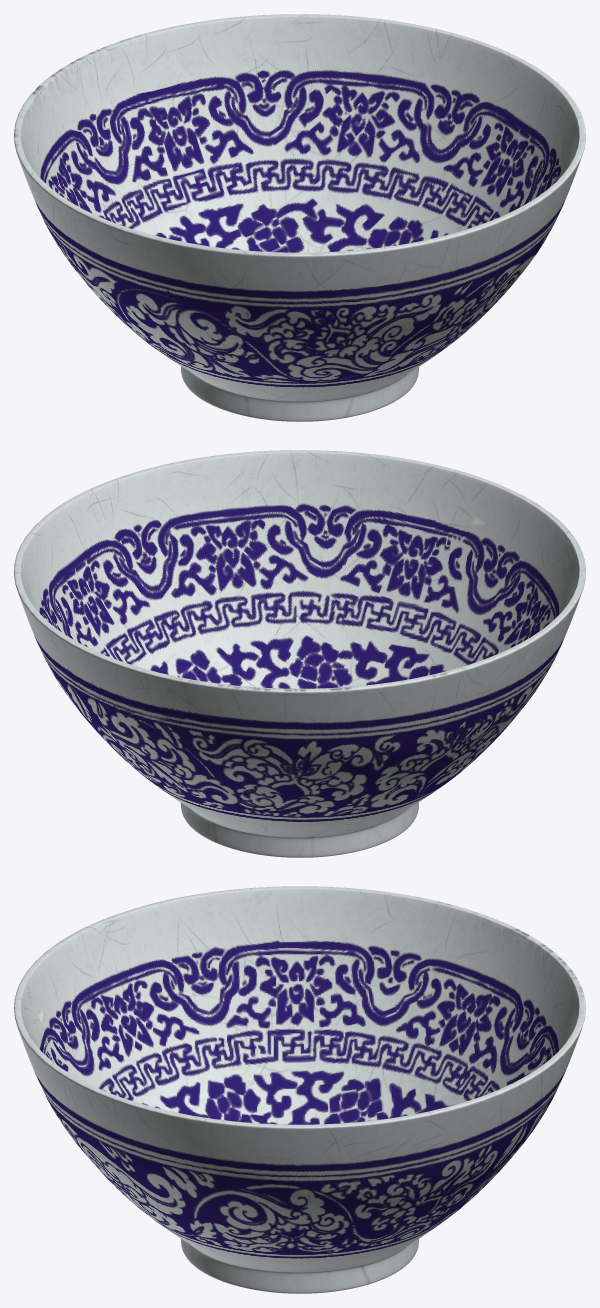
Rendered from Bawl.fbx.
The picture shows the model from 3 angles, top to bottom: view 1: azimuth 30°, elevation 25°; view 2: azimuth 150°, elevation 25°; view 3: azimuth 270°, elevation 25°; orthographic projection.
Visible parts, largest first — view 1: MSH_wan; view 2: MSH_wan; view 3: MSH_wan.
Boxes of the visible parts, <box> form: MSH_wan: <box>14,14,585,421</box>; MSH_wan: <box>14,450,585,857</box>; MSH_wan: <box>14,886,585,1293</box>.
Bounding box in the file's own units: 23.04 × 10.58 × 23.04.
